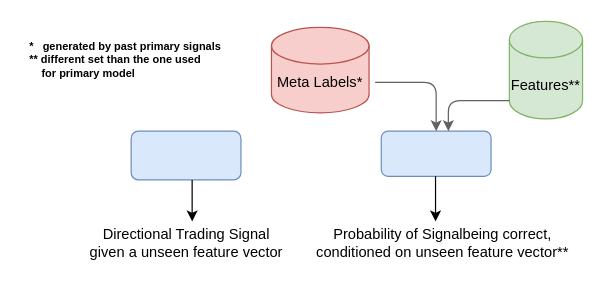
The diagram is 604 pixels wide and 283 high, and some of its shapes have lost their labels. Each missing label, with the box of its shape:
Primary Model: (130, 130, 241, 180)
Secondary Model: (380, 130, 491, 176)
